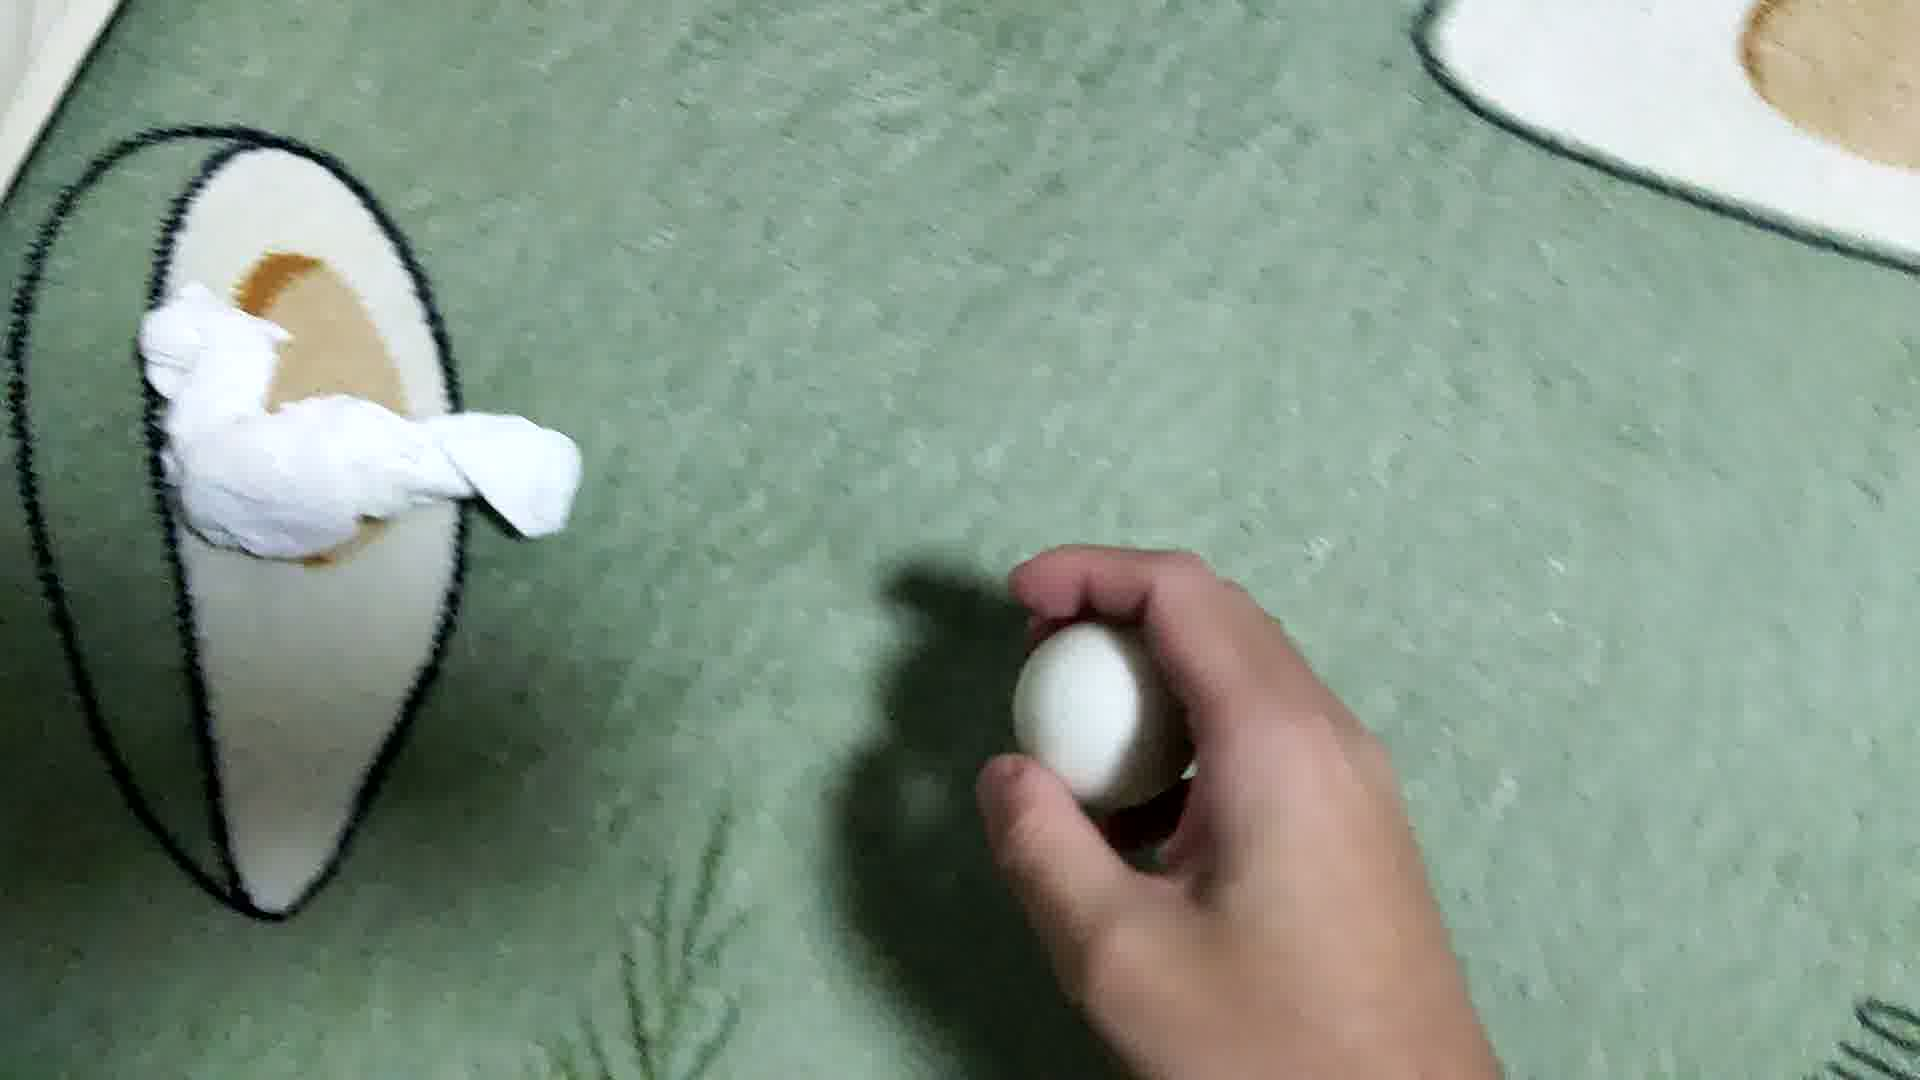Ball: (1011, 621, 1193, 803)
